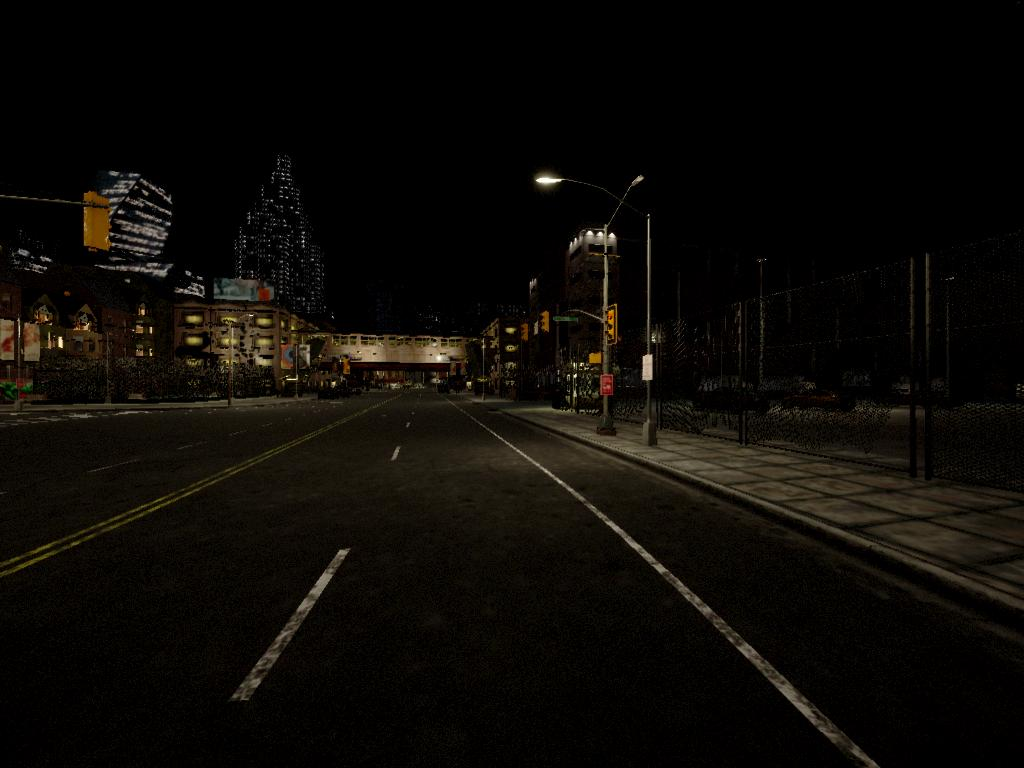traffic_light: (606, 307, 620, 341), (540, 312, 552, 334), (521, 324, 530, 344)
